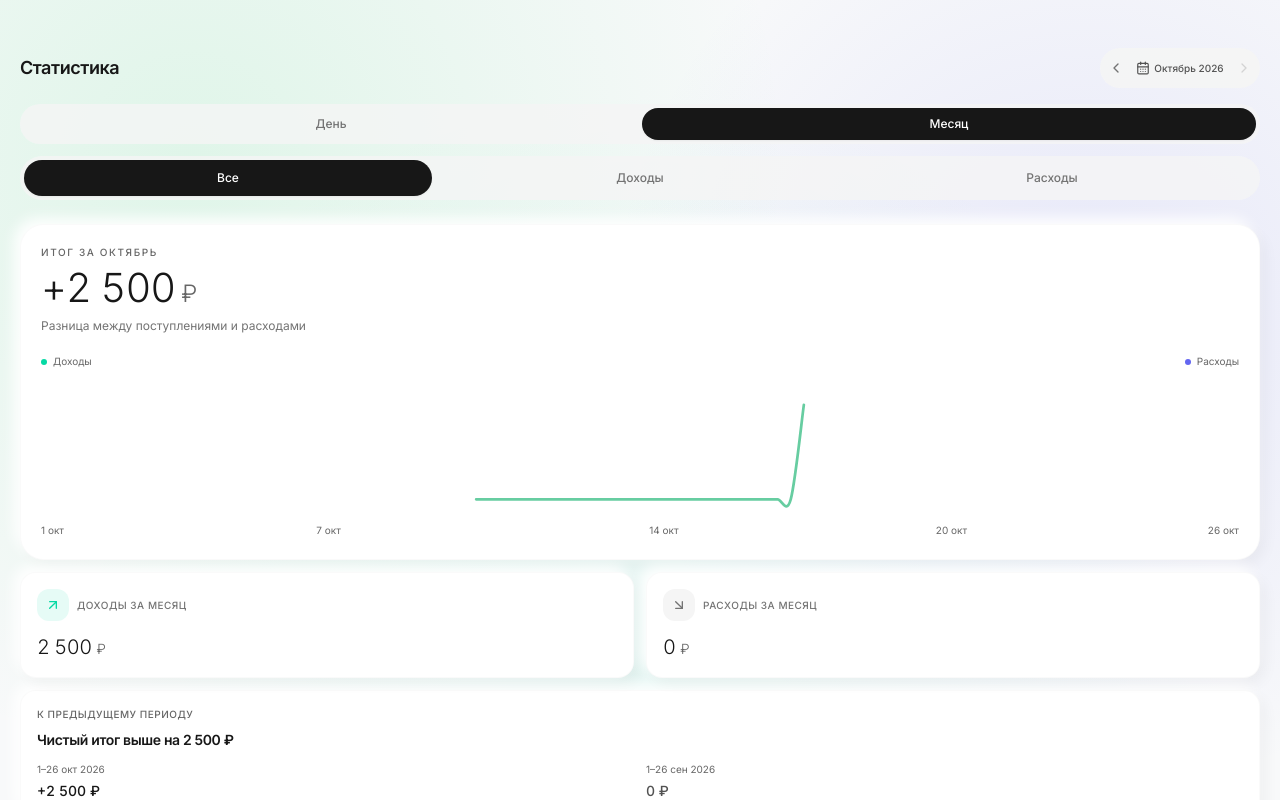
Test: StatisticsScreen daily and monthly views › describes a zero previous income baseline without inventing an infinite percentage
The width and height of the screenshot is (1280, 800).
Click the button "Доходы" at {"x": 640, "y": 178}, box [436,160,844,196]
(page scrolled)
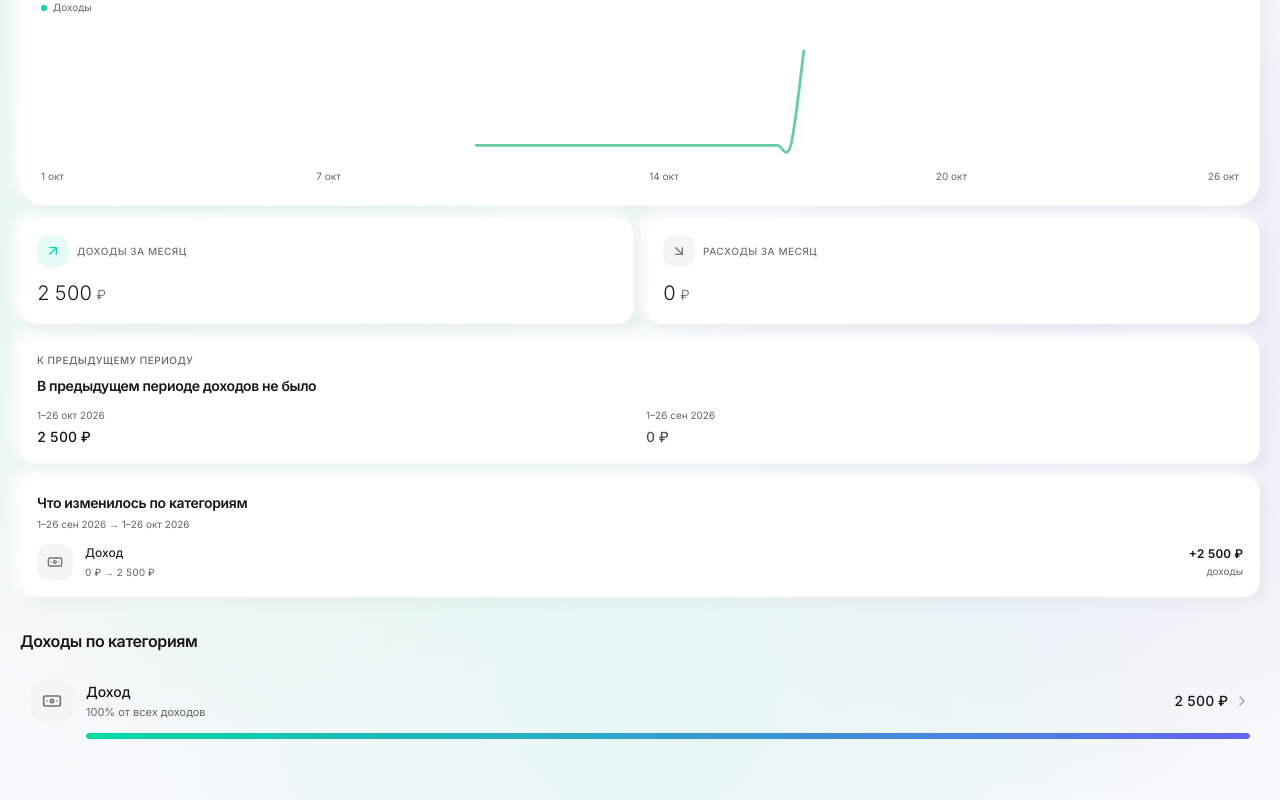
Expected: the element named "Сравнение с предыдущим периодом" does not show "Infinity", [20,336,1260,464]
Now the element named "Сравнение с предыдущим периодом" shows "В предыдущем периоде доходов не было", box [37,377,316,394]
